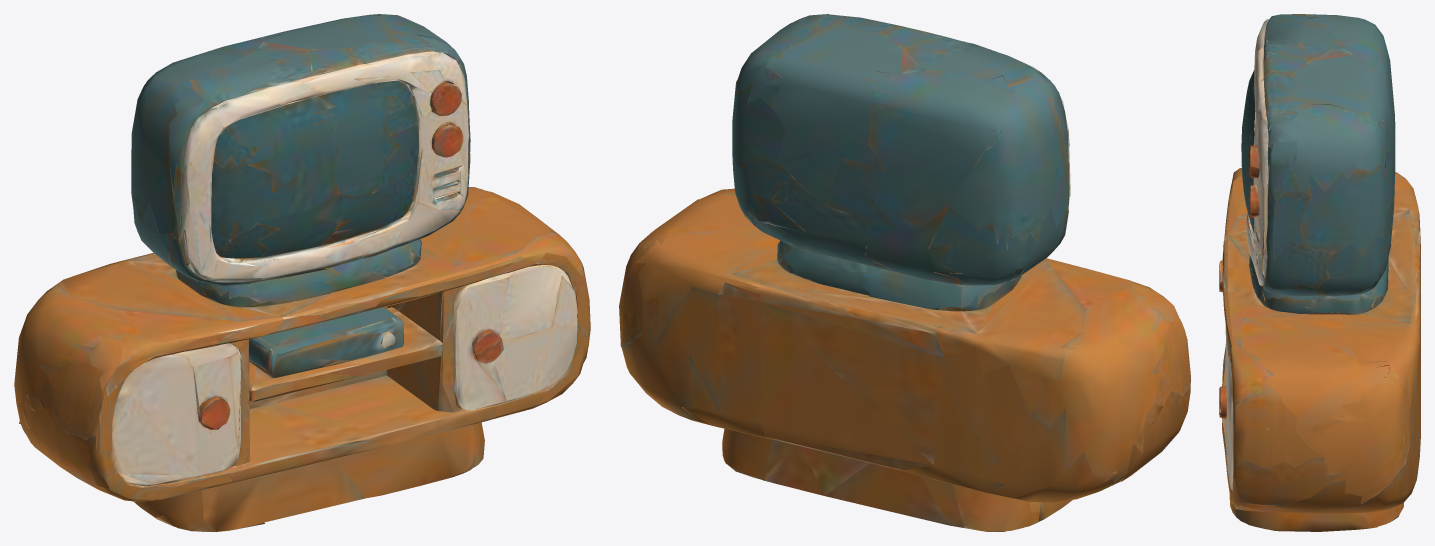
File: tv_console.glb
3 renders of one model, left to right at view 1: azimuth 30°, elevation 25°; view 2: azimuth 150°, elevation 25°; view 3: azimuth 270°, elevation 25°, orthographic. The views are drawn at different scales.
Parts seen in each view (by area): view 1: Mesh_0; view 2: Mesh_0; view 3: Mesh_0.
Part boxes in pixels (bbox=[...]): Mesh_0: bbox=[14, 14, 590, 531]; Mesh_0: bbox=[619, 14, 1190, 531]; Mesh_0: bbox=[1219, 14, 1420, 531].
Size of the model in its own units: 1.21 by 0.94 by 0.4285.
Materials: 1 (1 with a texture image).
